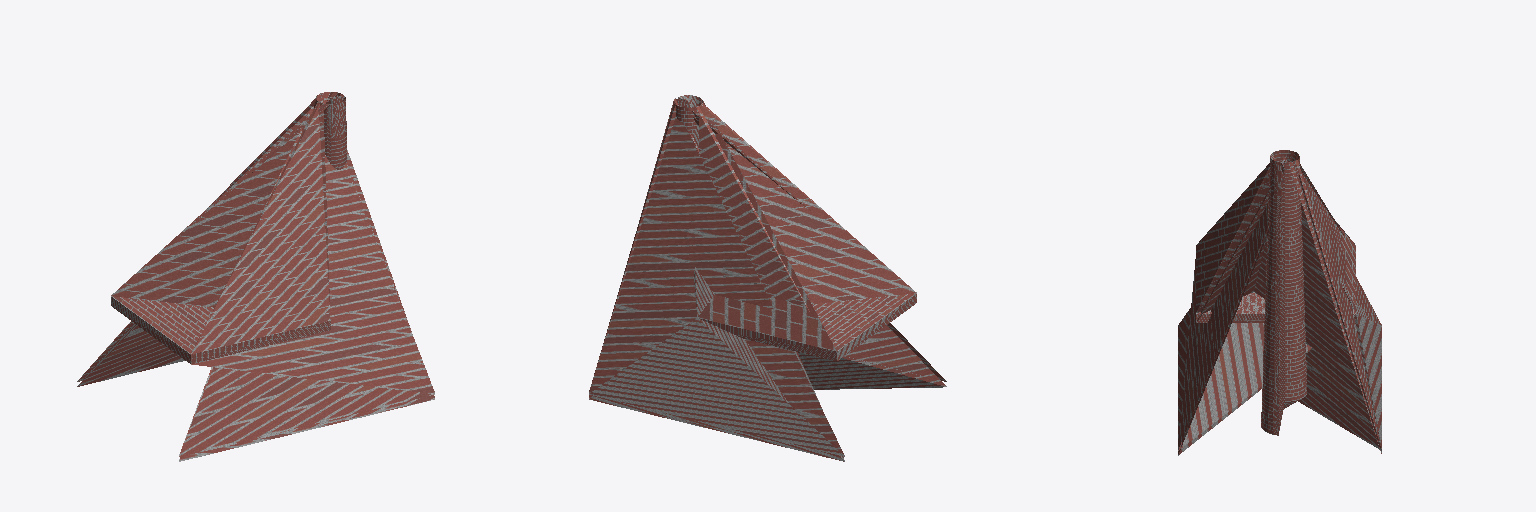
The picture shows the model from 3 angles: view 1: azimuth 30°, elevation 25°; view 2: azimuth 150°, elevation 25°; view 3: azimuth 270°, elevation 25°; orthographic projection.
Parts seen in each view (by area): view 1: Bricks_Bricks_1; view 2: Bricks_Bricks_1; view 3: Bricks_Bricks_1.
Boxes of the visible parts, box(x1,y1,x2,y2) form: Bricks_Bricks_1: box(77, 92, 434, 461); Bricks_Bricks_1: box(589, 95, 946, 461); Bricks_Bricks_1: box(1178, 150, 1381, 455).
Bounding box in the file's own units: 99.78 × 102 × 68.62.
2 materials, 1 textured.